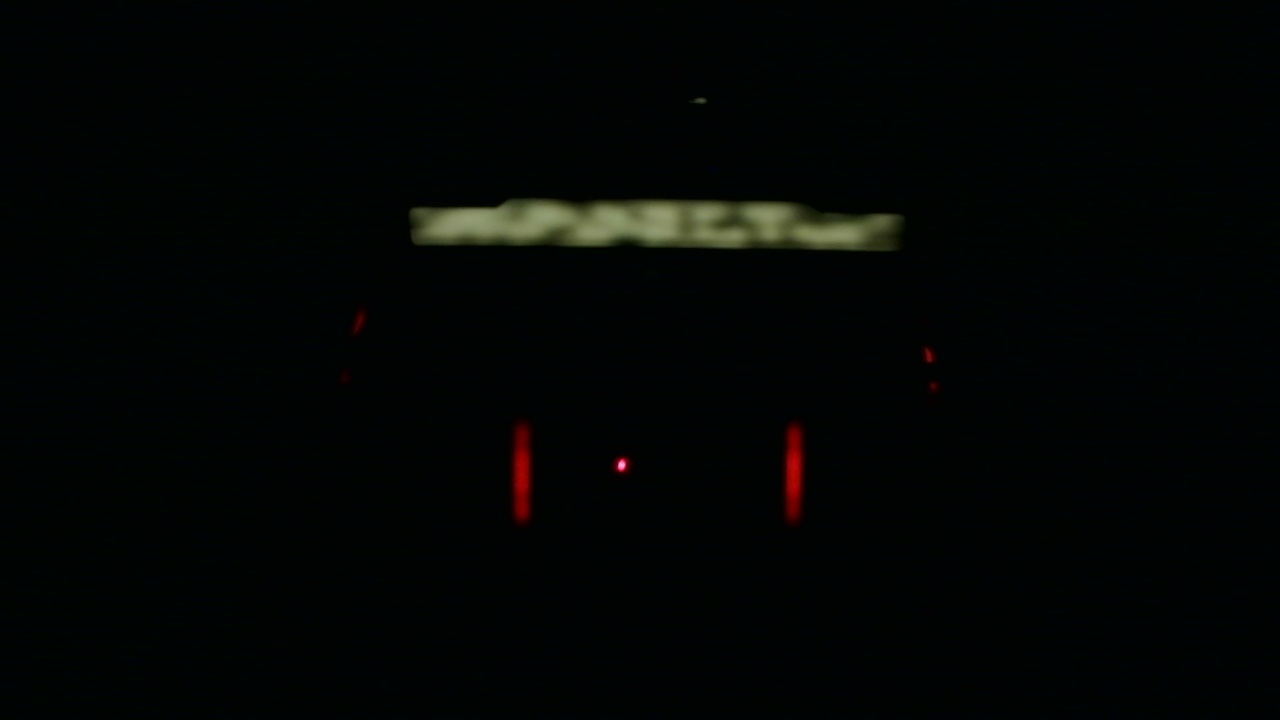lamp: (511, 420, 531, 522), (785, 419, 802, 523)
pair1: (513, 423, 802, 523)
